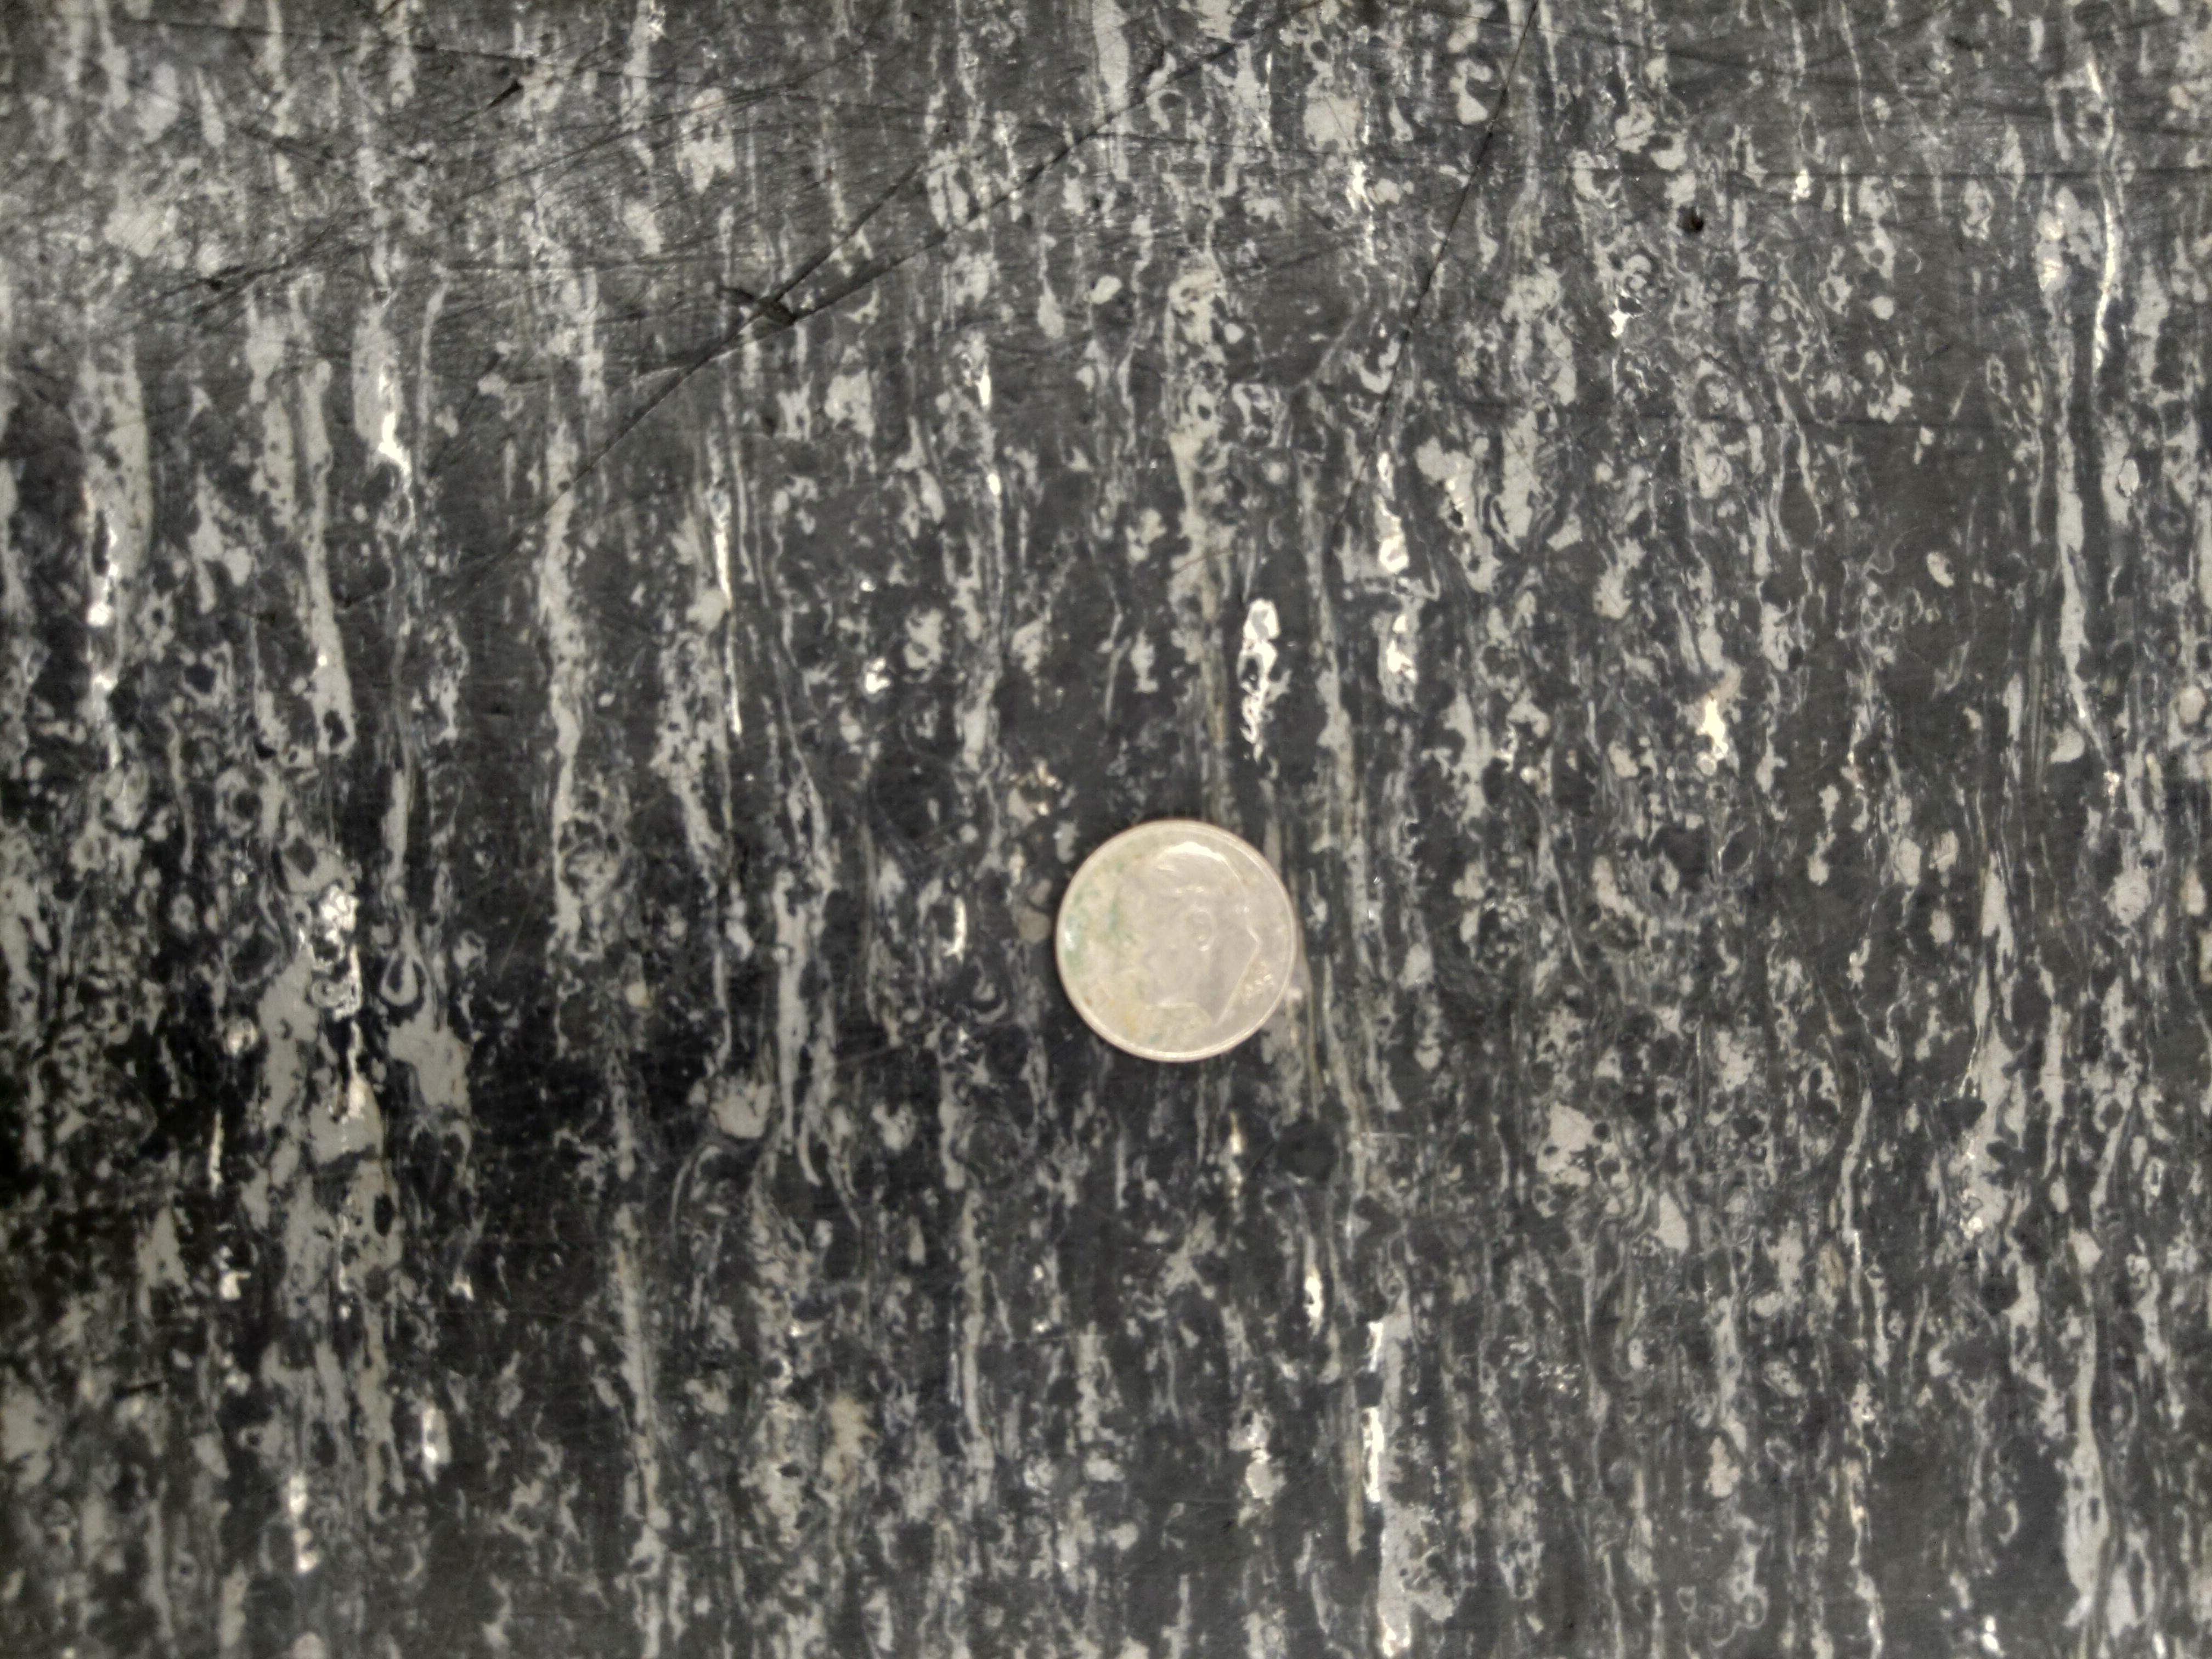Dime: (1052, 817, 1301, 1065)
